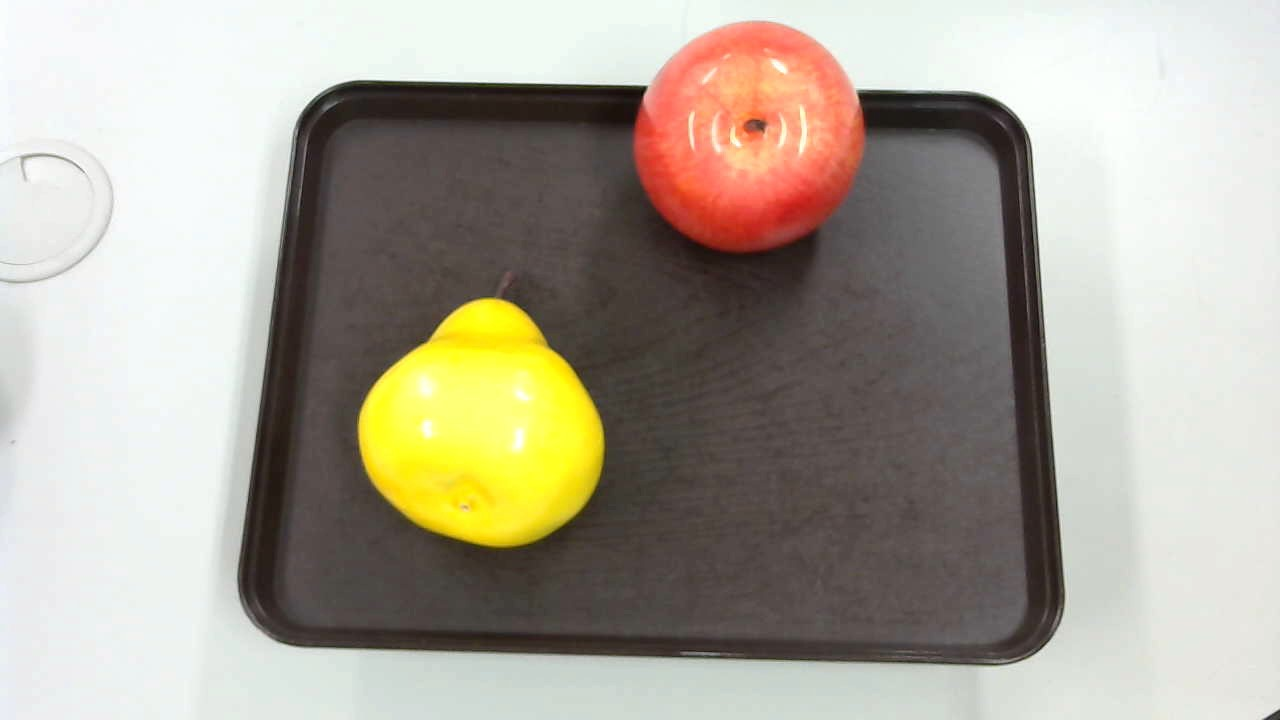red apple: (627, 22, 871, 246)
yellow pear: (350, 269, 604, 549)
